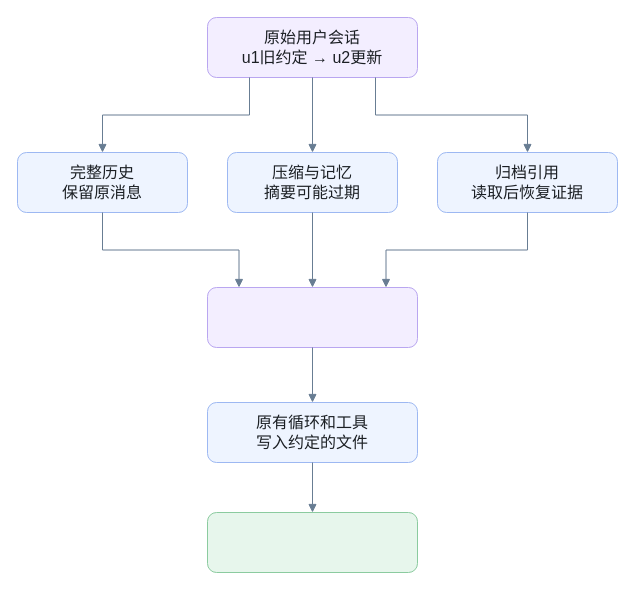
Image size: 635x590. Some labels were removed from this diagram. Here are the shapes that lost their labels. From the top down, the centre of each, then its label:
At (312,317): "实际模型输入 每次请求单独保存".
At (312,542): "最终回复与文件 两者分别保留".
